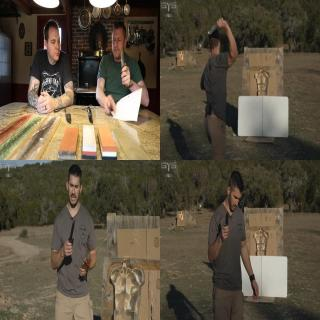knife: (64, 216, 76, 254), (118, 44, 130, 78), (206, 16, 224, 37), (221, 208, 229, 236)
